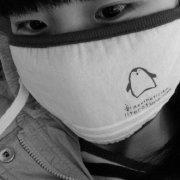OK: (13, 2, 180, 147)
